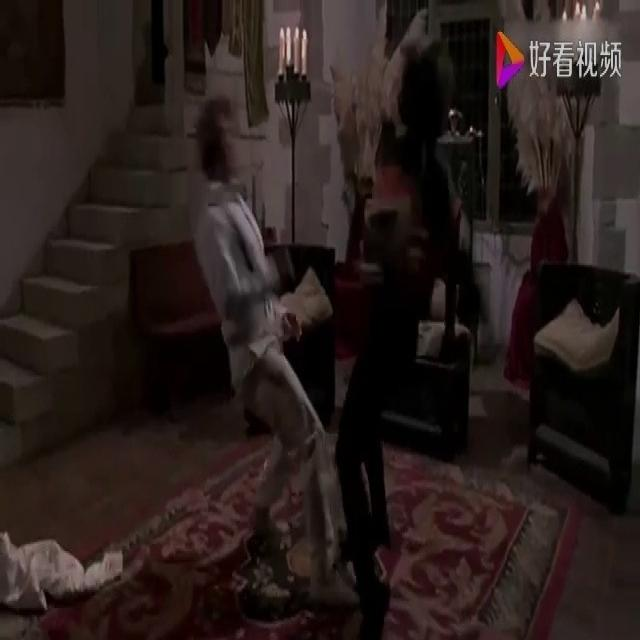non-fight: (185, 63, 423, 640)
